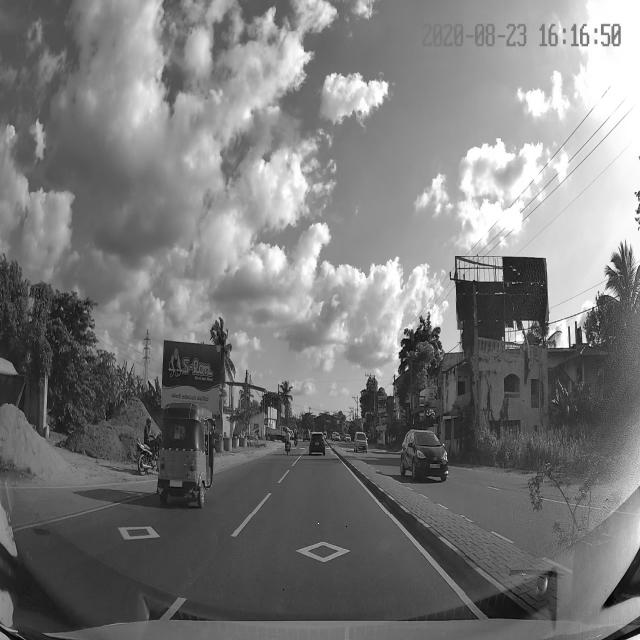diamond: (215, 514, 465, 597)
